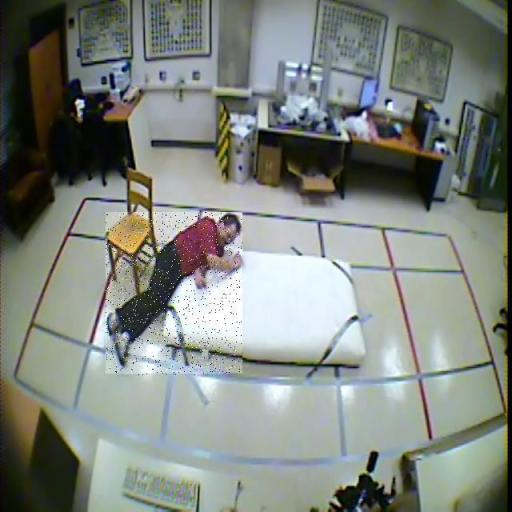Fall: (106, 213, 243, 376)
